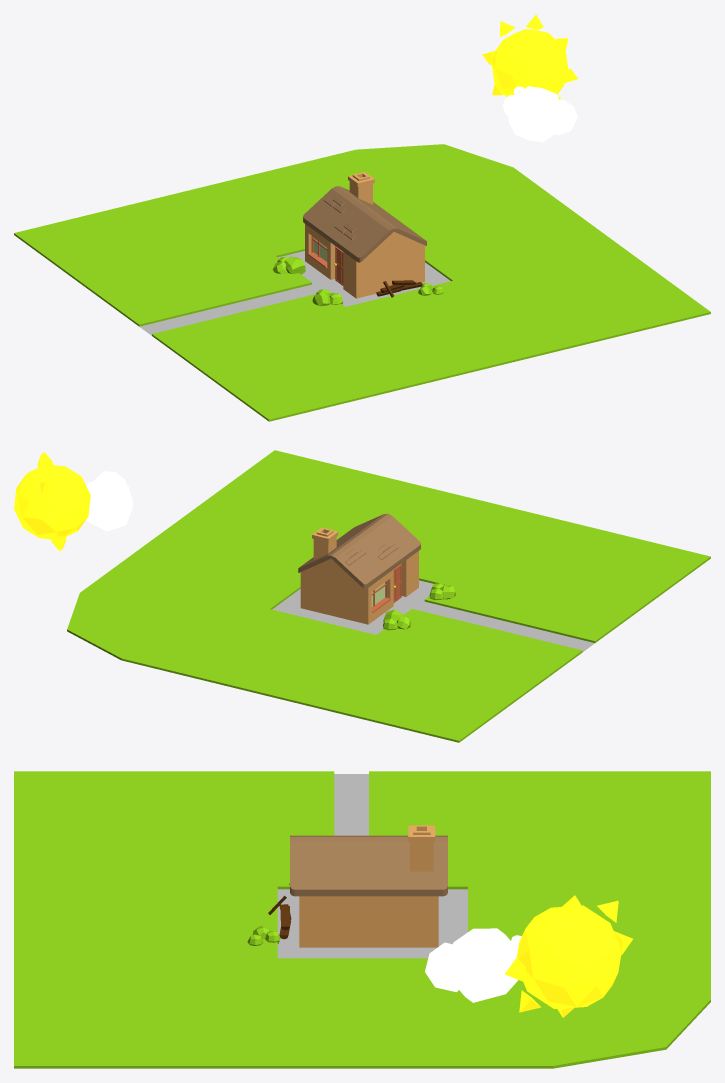
File: house.glb
3 views of the same model, one above another, from view 1: azimuth 30°, elevation 25°; view 2: azimuth 150°, elevation 25°; view 3: azimuth 270°, elevation 25° (orthographic). The views are drawn at different scales.
Parts seen in each view (by area): view 1: Grass, House, Roof, Sun, Path, Cloud; view 2: Grass, House, Roof, Sun, Path, Cloud; view 3: Grass, Roof, House, Sun, Path, Cloud.
Part boxes in pixels (x1,y1,x2,y2): Grass: (14, 144, 710, 421); House: (305, 172, 424, 298); Roof: (303, 186, 426, 262); Sun: (491, 29, 567, 96); Path: (139, 251, 450, 335); Cloud: (502, 86, 577, 142); Grass: (67, 450, 710, 742); House: (300, 527, 418, 624); Roof: (298, 513, 420, 588); Sun: (14, 465, 90, 539); Path: (272, 580, 594, 651); Cloud: (86, 471, 133, 531); Grass: (14, 771, 710, 1068); Roof: (290, 835, 447, 896); House: (299, 825, 438, 947); Sun: (517, 905, 621, 1008); Path: (277, 774, 467, 958); Cloud: (425, 928, 521, 1002).
Bounding box in the file's own units: 26.94 × 7.75 × 23.91.
